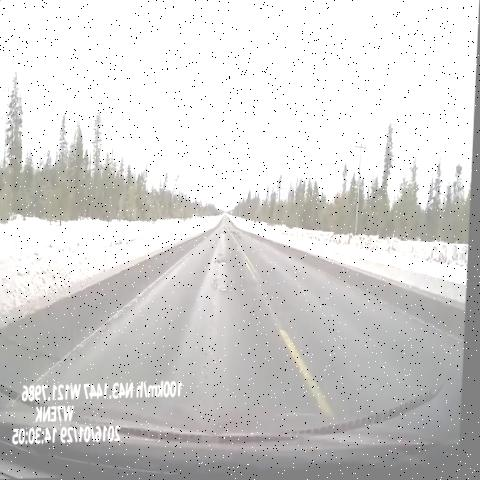pothole: (205, 274, 238, 305), (211, 248, 238, 276), (229, 223, 249, 256)
